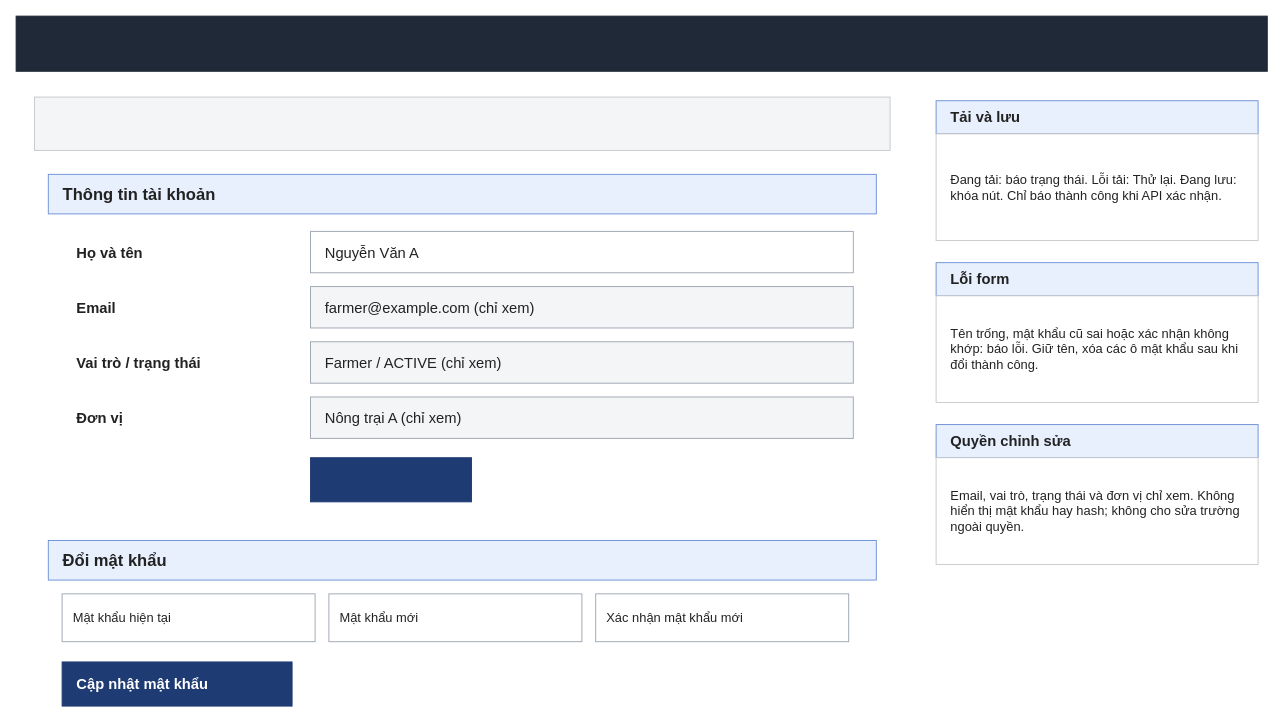
Some shapes in this 1283 by 722 pixel diagram are drawn without their labels. The shapes that lost their labels are listed below. From the top down, each one's centre as x and y in pixels, then its label:
pixel 641 43: UI-06 Hồ sơ cá nhân | US-UI03
pixel 462 123: Dashboard Danh sách lô Hồ sơ cá nhân Đăng xuất
pixel 391 479: Lưu tên
